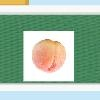half-ripe: (31, 40, 68, 74)
